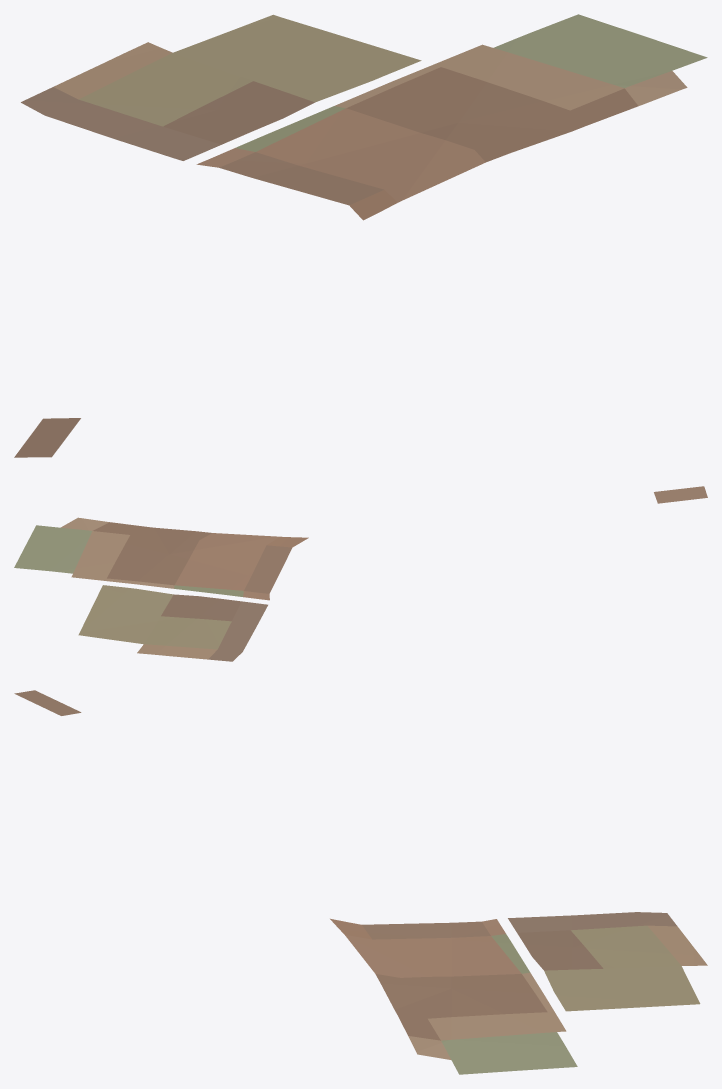
File: farm_-7_4_soil.glb
3 renders of one model, top to bottom at view 1: azimuth 30°, elevation 25°; view 2: azimuth 150°, elevation 25°; view 3: azimuth 270°, elevation 25°, orthographic. The views are drawn at different scales.
Parts seen in each view (by area): view 1: geometry_0; view 2: geometry_0; view 3: geometry_0.
Boxes of the visible parts, x1,y1,x2,y2 form: geometry_0: (14,14,707,457); geometry_0: (14,486,707,661); geometry_0: (14,690,707,1074).
Size of the model in its own units: 524 by 51.41 by 458.
